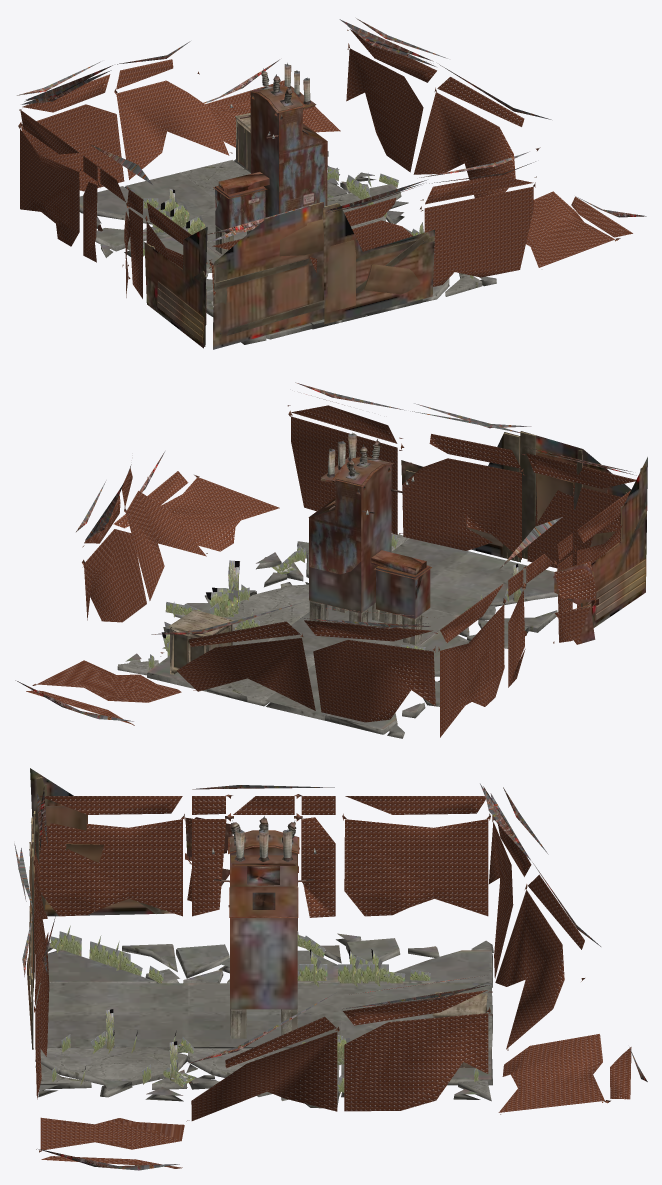
Rendered from power_sub_small_2.glb.
The picture shows the model from 3 angles, top to bottom: view 1: azimuth 30°, elevation 25°; view 2: azimuth 150°, elevation 25°; view 3: azimuth 270°, elevation 25°; orthographic projection. The views are drawn at different scales.
Parts seen in each view (by area): view 1: chainlink_fence_3x3_gate_LOD0, power_sub_small_2, cover_a_LOD0, substation_a_LOD0, concrete_slabs_9x3_fade_a, cracks_grass_f_temperate; view 2: chainlink_fence_3x3_gate_LOD0, power_sub_small_2, substation_a_LOD0, concrete_slabs_9x3_fade_a, cover_a_LOD0, cracks_grass_f_temperate, cargo_pack (15); view 3: chainlink_fence_3x3_gate_LOD0, power_sub_small_2, concrete_slabs_9x3_fade_a, cracks_grass_f_temperate, substation_a_LOD0, cover_a_LOD0, cargo_pack (15).
Part boxes in pixels (x1,y1,x2,y2): chainlink_fence_3x3_gate_LOD0: [17, 18, 646, 325]; power_sub_small_2: [79, 85, 495, 349]; cover_a_LOD0: [147, 202, 434, 346]; substation_a_LOD0: [213, 63, 327, 254]; concrete_slabs_9x3_fade_a: [79, 151, 496, 344]; cracks_grass_f_temperate: [143, 165, 473, 279]; chainlink_fence_3x3_gate_LOD0: [15, 382, 636, 737]; power_sub_small_2: [125, 431, 647, 732]; substation_a_LOD0: [308, 432, 431, 644]; concrete_slabs_9x3_fade_a: [117, 534, 557, 738]; cover_a_LOD0: [402, 432, 646, 620]; cracks_grass_f_temperate: [148, 534, 521, 668]; cargo_pack (15): [169, 609, 233, 674]; chainlink_fence_3x3_gate_LOD0: [14, 783, 647, 1170]; power_sub_small_2: [30, 768, 492, 1099]; concrete_slabs_9x3_fade_a: [35, 936, 493, 1108]; cracks_grass_f_temperate: [50, 925, 478, 1096]; substation_a_LOD0: [212, 816, 316, 1038]; cover_a_LOD0: [27, 777, 168, 1049]; cargo_pack (15): [432, 992, 487, 1068].
Bounding box in the file's own units: 12.64 × 4.53 × 12.46.
9 materials, 9 textured.
